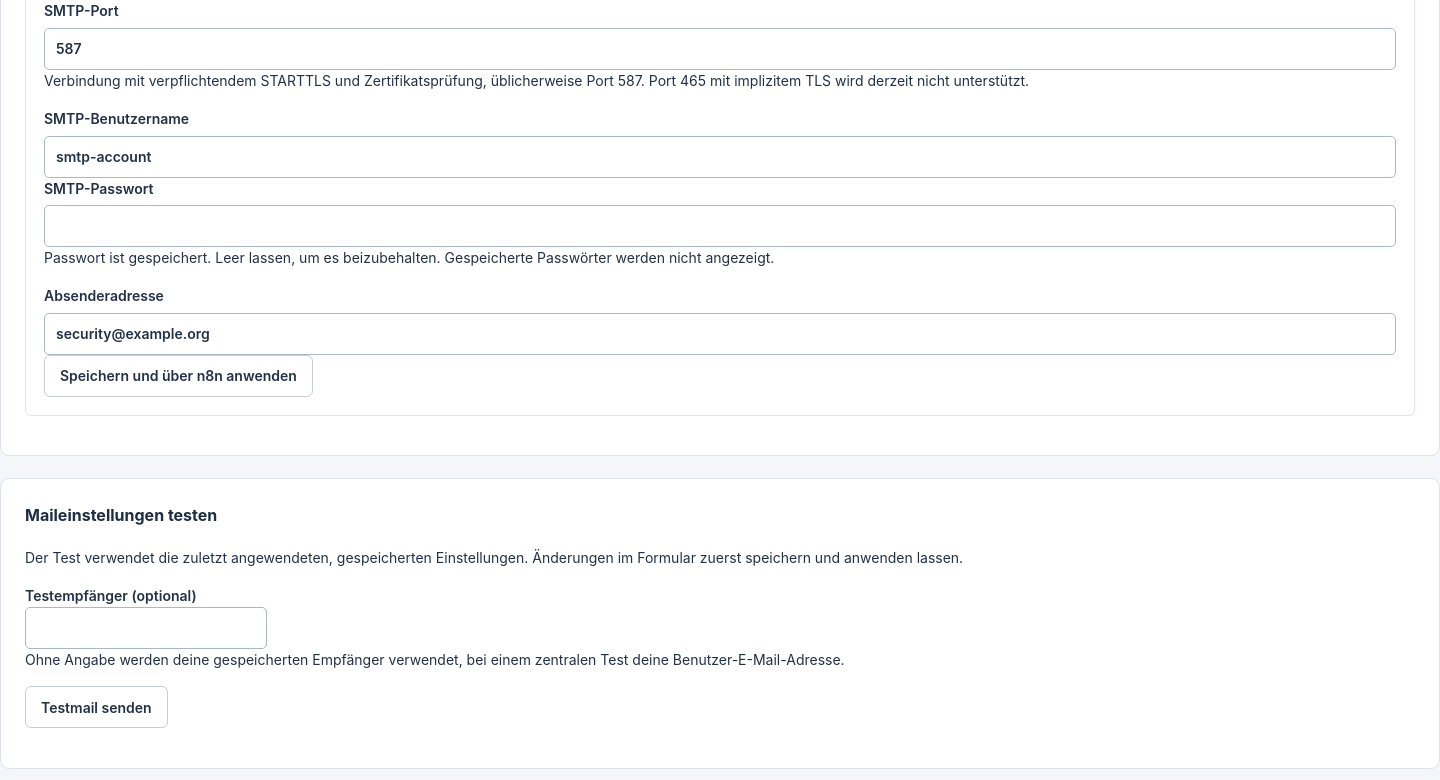
Test: queues a versioned configuration and preserves a blank password
This screenshot has width=1440, height=780.
(page scrolled)
What coordinates should you click on to do the following:
click the button "Speichern und über n8n anwenden"
I would click on:
 (178, 376)
Its box is [44,355,313,397].
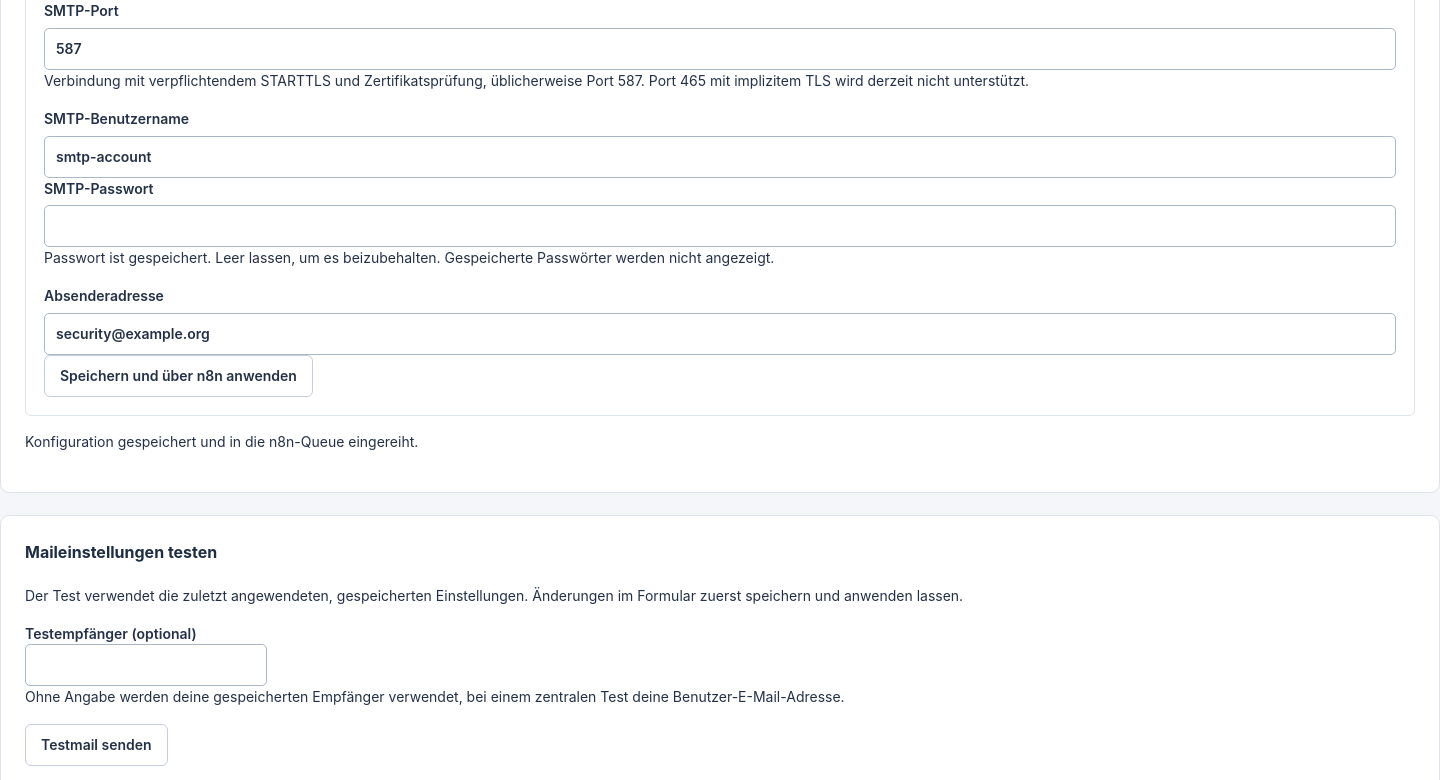
Expected: the text "Konfiguration gespeichert und in die n8n-Queue eingereiht." is shown, [25,433,418,450]
